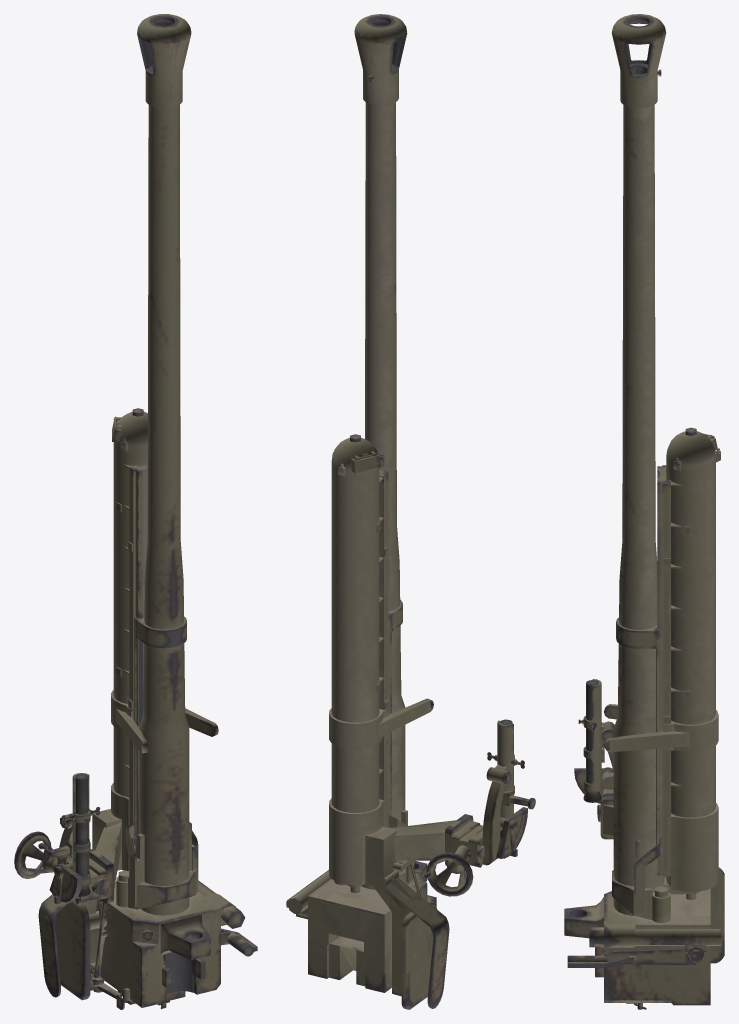
The model's file is Gun_04.glb.
3 views of the same model, side by side, from view 1: azimuth 30°, elevation 25°; view 2: azimuth 150°, elevation 25°; view 3: azimuth 270°, elevation 25° (orthographic). The views are drawn at different scales.
Parts seen in each view (by area): view 1: set_0_group_0; view 2: set_0_group_0; view 3: set_0_group_0.
Part boxes in pixels (x1,y1,x2,y2): set_0_group_0: [14, 14, 257, 1009]; set_0_group_0: [286, 14, 535, 1009]; set_0_group_0: [564, 14, 724, 1009].
Size of the model in its own units: 0.6624 by 3.18 by 0.469.
Materials: 1 (1 with a texture image).
